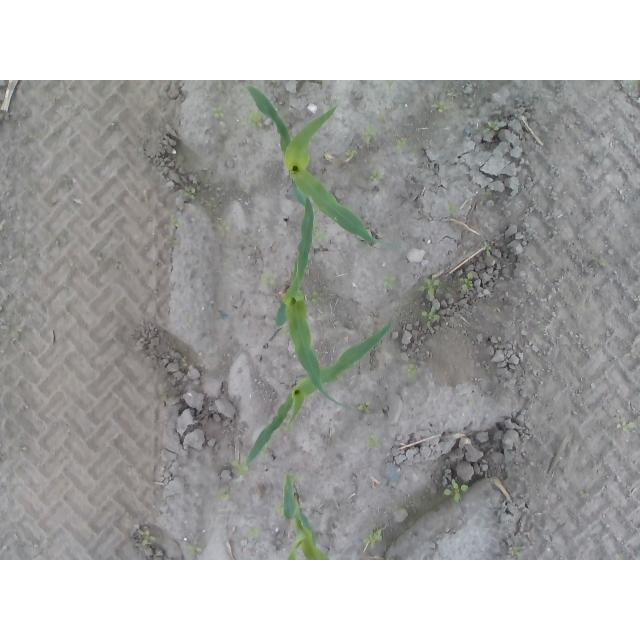Maize: (245, 85, 399, 252), (245, 318, 396, 471), (273, 195, 351, 409), (283, 472, 332, 560)
Weeds: (481, 109, 506, 134), (442, 478, 468, 502), (418, 276, 439, 298), (246, 111, 266, 130), (422, 306, 440, 326), (259, 272, 277, 290), (167, 213, 183, 233), (617, 421, 640, 434), (368, 168, 385, 185), (138, 529, 156, 545), (433, 100, 452, 115), (215, 222, 231, 239), (233, 462, 252, 475), (365, 127, 378, 146), (367, 529, 384, 543), (382, 271, 395, 289), (462, 271, 474, 290), (356, 399, 372, 413), (368, 435, 383, 449), (184, 185, 197, 199), (211, 106, 225, 119), (310, 290, 322, 305), (483, 240, 494, 256), (189, 544, 203, 556), (407, 364, 418, 378), (248, 527, 259, 537), (510, 545, 520, 555), (399, 137, 410, 146), (345, 150, 358, 157), (319, 233, 328, 242), (446, 206, 455, 214), (277, 503, 284, 513)
